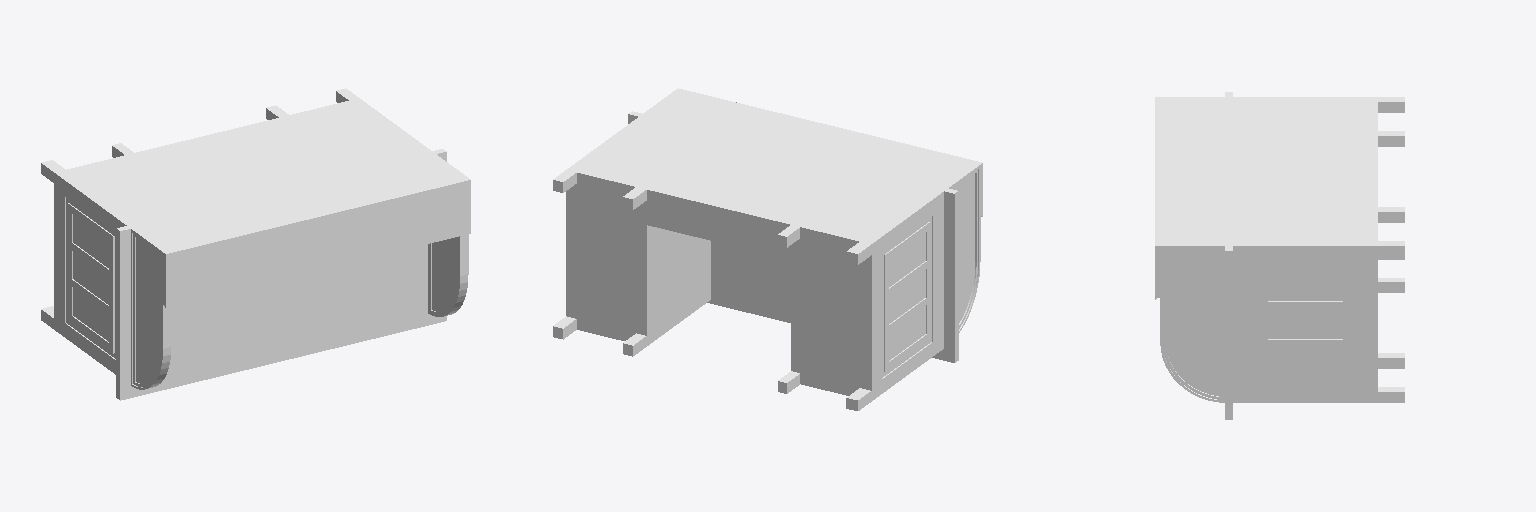
Rendered from cat14_desk.obj.
3 renders of one model, left to right at view 1: azimuth 30°, elevation 25°; view 2: azimuth 150°, elevation 25°; view 3: azimuth 270°, elevation 25°, orthographic.
Visible parts, largest first — view 1: Color_000; view 2: Color_000; view 3: Color_000.
Part boxes in pixels (x1,y1,x2,y2): Color_000: (41,88,470,400); Color_000: (553,88,982,410); Color_000: (1155,92,1404,419).
Bounding box in the file's own units: 70 × 34.75 × 46.5.